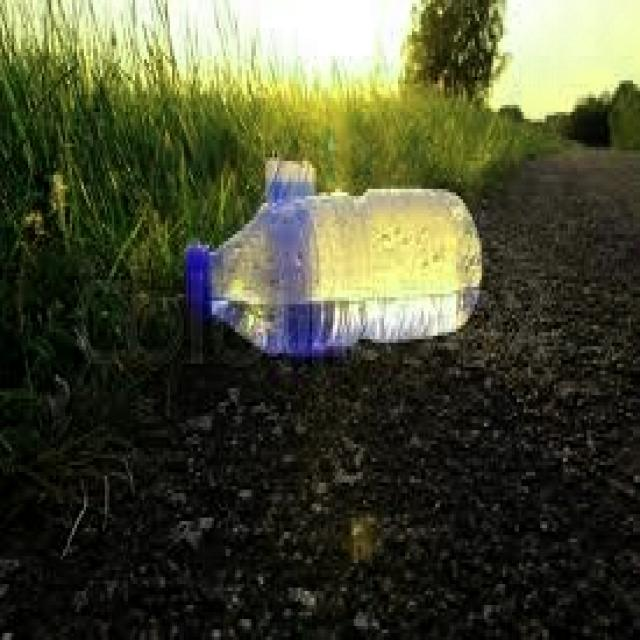half-bottle: (178, 175, 484, 356)
